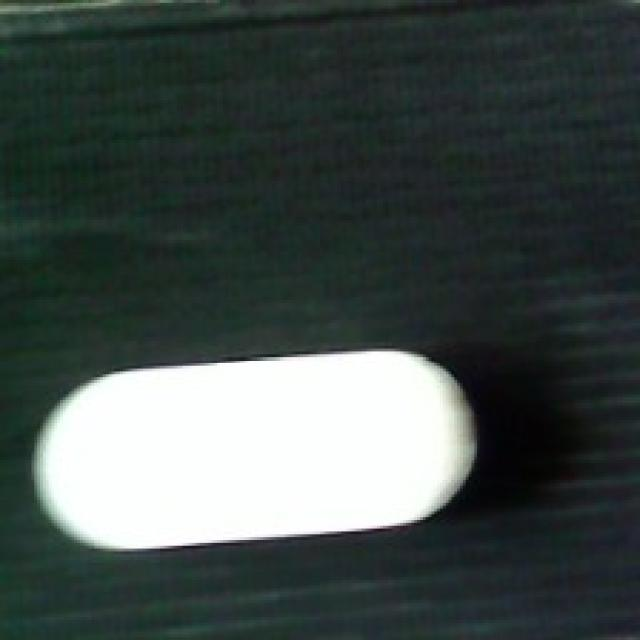no-defect: (26, 346, 480, 548)
